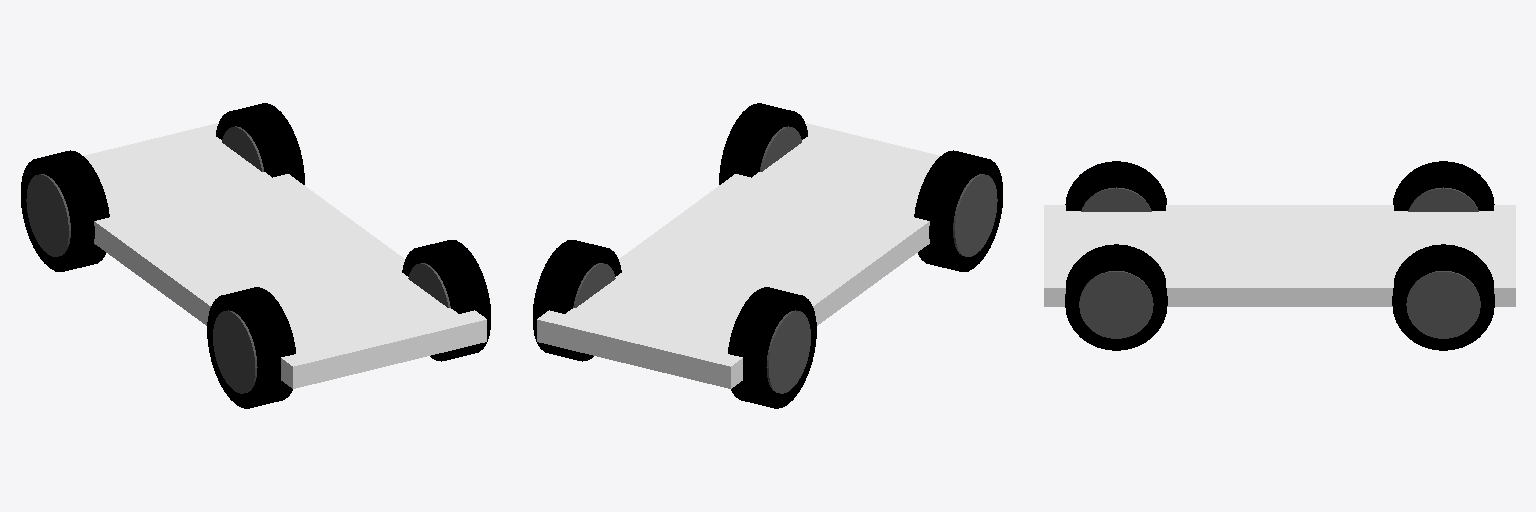
The robot description file, URDF, robot "toyotaComs":
<?xml version="1.0"?>
<robot name="toyotaComs">
  <link name="base_link">
    <visual>
      <geometry>
        <box size="0.9200 2.2025 0.1015"/>
      </geometry>
      <origin rpy="0 0 0 " xyz="0 0 0.225"/>
      <material name="white">
         <color rgba="1 1 1 1"/>
      </material>
    </visual>
    <collision>
      <geometry>
         <box size="0.9200 2.2025 0.1015"/>
      </geometry>
      <origin rpy="0 0 0 " xyz="0 0 0.225"/>
    </collision>
    <inertial>
      <mass value="10"/>
      <inertia ixx="0.012" ixy="0.0" ixz="0.0" iyy="0.012" iyz="0.0" izz="0.008"/>
    </inertial>
  </link>


<link name="left_back_wheel">
    <visual>
      <geometry>
        <cylinder length="0.15" radius="0.24" />
      </geometry>
      <material name="black">
       <color rgba="0 0 0 1"/>
      </material>
    </visual>
     <collision>
      <geometry>
        <cylinder length="0.15" radius="0.24" />
      </geometry>
    </collision>
    <inertial>
      <mass value="1"/>
      <inertia ixx="0.00498" ixy="0.0" ixz="0.0" iyy="0.00498" iyz="0.0" izz="0.00845"/>
     </inertial>
  </link>

 <joint name="left_back_wheel_joint" type="fixed">
    <axis xyz="0 0 1"/>
    <parent link="base_link"/>
    <child link="left_back_wheel"/>
    <origin rpy="1.57075 0 1.57075 " xyz="0.46 0.765 0.225"/>
    <limit effort="100" velocity="100"/>
    <joint_properties damping="0.0" friction="0.0"/>
  </joint>

<link name="inner_left_back_wheel">
    <visual>
      <geometry>
        <cylinder length="0.17" radius="0.1741" />
      </geometry>
      <material name="grey">
       <color rgba="0.4 0.4 0.4 1"/>
      </material>
    </visual>
     <collision>
      <geometry>
        <cylinder length="0.17" radius="0.1741" />
      </geometry>
    </collision>
    <inertial>
      <mass value="1"/>
      <inertia ixx="0.00498" ixy="0.0" ixz="0.0" iyy="0.00498" iyz="0.0" izz="0.00845"/>
     </inertial>
  </link>

 <joint name="inner_left_back_wheel_joint" type="fixed">
    <axis xyz="0 0 1"/>
    <parent link="left_back_wheel"/>
    <child link="inner_left_back_wheel"/>
    <origin rpy="0 0 0 " xyz="0 0 0"/>
    <limit effort="100" velocity="100"/>
    <joint_properties damping="0.0" friction="0.0"/>
  </joint>


<link name="right_back_wheel">
    <visual>
      <geometry>
        <cylinder length="0.15" radius="0.24" />
      </geometry>
      <material name="black">
       <color rgba="0 0 0 1"/>
      </material>
    </visual>
     <collision>
      <geometry>
        <cylinder length="0.15" radius="0.24" />
      </geometry>
    </collision>
    <inertial>
      <mass value="1"/>
      <inertia ixx="0.00498" ixy="0.0" ixz="0.0" iyy="0.00498" iyz="0.0" izz="0.00845"/>
     </inertial>
  </link>

 <joint name="right_back_wheel_joint" type="fixed">
    <axis xyz="0 0 1"/>
    <parent link="base_link"/>
    <child link="right_back_wheel"/>
    <origin rpy="1.57075 0 1.57075 " xyz="-0.46 0.765 0.225"/>
    <limit effort="100" velocity="100"/>
    <joint_properties damping="0.0" friction="0.0"/>
  </joint>

<link name="inner_right_back_wheel">
    <visual>
      <geometry>
        <cylinder length="0.17" radius="0.1741" />
      </geometry>
      <material name="grey">
       <color rgba="0.4 0.4 0.4 1"/>
      </material>
    </visual>
     <collision>
      <geometry>
        <cylinder length="0.17" radius="0.1741" />
      </geometry>
    </collision>
    <inertial>
      <mass value="1"/>
      <inertia ixx="0.00498" ixy="0.0" ixz="0.0" iyy="0.00498" iyz="0.0" izz="0.00845"/>
     </inertial>
  </link>

 <joint name="inner_right_back_wheel_joint" type="fixed">
    <axis xyz="0 0 1"/>
    <parent link="right_back_wheel"/>
    <child link="inner_right_back_wheel"/>
    <origin rpy="0 0 0 " xyz="0 0 0"/>
    <limit effort="100" velocity="100"/>
    <joint_properties damping="0.0" friction="0.0"/>
  </joint>


<link name="left_front_wheel">
    <visual>
      <geometry>
        <cylinder length="0.15" radius="0.24" />
      </geometry>
      <material name="black">
       <color rgba="0 0 0 1"/>
      </material>
    </visual>
     <collision>
      <geometry>
        <cylinder length="0.15" radius="0.24" />
      </geometry>
    </collision>
    <inertial>
      <mass value="1"/>
      <inertia ixx="0.00498" ixy="0.0" ixz="0.0" iyy="0.00498" iyz="0.0" izz="0.00845"/>
     </inertial>
  </link>

 <joint name="nakedCar_steeringLeft" type="revolute"> <!--left_front_wheel_joint-->
    <axis xyz="0 1 0"/>
    <parent link="base_link"/>
    <child link="left_front_wheel"/>
    <origin rpy="1.57075 0 1.57075 " xyz="0.46 -0.765 0.225"/>
    <limit effort="1000.0" lower="-0.785" upper="0.785" velocity="0.5"/>
    <joint_properties damping="0.0" friction="0.0"/>
  </joint>

<link name="inner_left_front_wheel">
    <visual>
      <geometry>
        <cylinder length="0.17" radius="0.1741" />
      </geometry>
      <material name="grey">
       <color rgba="0.4 0.4 0.4 1"/>
      </material>
    </visual>
     <collision>
      <geometry>
        <cylinder length="0.17" radius="0.1741" />
      </geometry>
    </collision>
    <inertial>
      <mass value="1"/>
      <inertia ixx="0.00498" ixy="0.0" ixz="0.0" iyy="0.00498" iyz="0.0" izz="0.00845"/>
     </inertial>
  </link>

 <joint name="inner_left_front_wheel_joint" type="fixed">
    <axis xyz="0 0 1"/>
    <parent link="left_front_wheel"/>
    <child link="inner_left_front_wheel"/>
    <origin rpy="0 0 0 " xyz="0.0 0.0 0.0"/>
    <limit effort="100" velocity="100"/>
    <joint_properties damping="0.0" friction="0.0"/>
  </joint>

<link name="right_front_wheel">
    <visual>
      <geometry>
        <cylinder length="0.15" radius="0.24" />
      </geometry>
      <material name="black">
       <color rgba="0 0 0 1"/>
      </material>
    </visual>
     <collision>
      <geometry>
        <cylinder length="0.15" radius="0.24" />
      </geometry>
    </collision>
    <inertial>
      <mass value="1"/>
      <inertia ixx="0.00498" ixy="0.0" ixz="0.0" iyy="0.00498" iyz="0.0" izz="0.00845"/>
     </inertial>
  </link>

 <joint name="nakedCar_steeringRight" type="revolute"> <!-- right_front_wheel_joint -->
    <axis xyz="0 1 0"/>
    <parent link="base_link"/>
    <child link="right_front_wheel"/>
    <origin rpy="1.57075 0 1.57075 " xyz="-0.46 -0.765 0.225"/>
    <limit effort="1000.0" lower="-0.785" upper="0.785" velocity="0.5"/>
    <joint_properties damping="0.0" friction="0.0"/>
  </joint>

<link name="inner_right_front_wheel">
    <visual>
      <geometry>
        <cylinder length="0.17" radius="0.1741" />
      </geometry>
      <material name="grey">
       <color rgba="0.4 0.4 0.4 1"/>
      </material>
    </visual>
     <collision>
      <geometry>
        <cylinder length="0.17" radius="0.1741" />
      </geometry>
    </collision>
    <inertial>
      <mass value="1"/>
      <inertia ixx="0.00498" ixy="0.0" ixz="0.0" iyy="0.00498" iyz="0.0" izz="0.00845"/>
     </inertial>
  </link>

 <joint name="inner_right_front_wheel_joint" type="fixed">
    <axis xyz="0 0 1"/>
    <parent link="right_front_wheel"/>
    <child link="inner_right_front_wheel"/>
    <origin rpy="0 0 0 " xyz="0 0 0"/>
    <limit effort="100" velocity="100"/>
    <joint_properties damping="0.0" friction="0.0"/>
  </joint>





<link name="car_body">
    <visual>
      <origin rpy="0 0 0" xyz="0 0 0"/>
      <geometry>
        <mesh filename="package://vehicle_model/mesh/toyotaComsFinal1.dae"/>
      </geometry>
    </visual>
    <collision>
      <geometry>
        <mesh filename="package://vehicle_model/mesh/toyotaComsFinal1.dae"/>
      </geometry>
     <origin rpy="0 0 0" xyz="0 0 0"/>
    </collision>
    <inertial>
      <mass value="0.05"/>
     <inertia ixx="0.012" ixy="0.0" ixz="0.0" iyy="0.012" iyz="0.0" izz="0.008"/>
    </inertial>
  </link>

<joint name="car_body_joint" type="fixed">
    <axis xyz="0 0 0"/>
    
    <origin rpy="0 0 0" xyz="0 0 0"/>
    <parent link="base_link"/>
    <child link="car_body"/>
  </joint>



</robot>

--- Facts derived from the render (not from the file) ---
3 views of the same robot in one strip: view 1: azimuth 30°, elevation 25°; view 2: azimuth 150°, elevation 25°; view 3: azimuth 270°, elevation 25° (orthographic).
Model toyotaComs with 10 links and 9 joints (2 revolute, 7 fixed), rooted at base_link, posed every joint at zero.
Links seen in each view (by area): view 1: base_link, right_back_wheel, right_front_wheel, left_front_wheel, left_back_wheel, inner_right_front_wheel, inner_right_back_wheel, inner_left_back_wheel, inner_left_front_wheel; view 2: base_link, right_front_wheel, right_back_wheel, left_back_wheel, left_front_wheel, inner_right_back_wheel, inner_right_front_wheel, inner_left_back_wheel, inner_left_front_wheel; view 3: base_link, left_back_wheel, left_front_wheel, inner_left_back_wheel, inner_left_front_wheel, right_back_wheel, right_front_wheel, inner_right_back_wheel, inner_right_front_wheel.
Boxes of the visible links, x1,y1,x2,y2 form: base_link: [84, 123, 486, 388]; right_back_wheel: [21, 150, 109, 271]; right_front_wheel: [207, 287, 295, 408]; left_front_wheel: [402, 240, 490, 361]; left_back_wheel: [216, 103, 304, 184]; inner_right_front_wheel: [213, 310, 257, 393]; inner_right_back_wheel: [26, 174, 70, 256]; inner_left_back_wheel: [222, 126, 263, 171]; inner_left_front_wheel: [408, 263, 450, 307]; base_link: [537, 123, 939, 388]; right_front_wheel: [914, 150, 1002, 271]; right_back_wheel: [728, 287, 816, 408]; left_back_wheel: [533, 240, 621, 361]; left_front_wheel: [719, 103, 807, 184]; inner_right_back_wheel: [766, 310, 810, 393]; inner_right_front_wheel: [953, 174, 997, 256]; inner_left_back_wheel: [573, 263, 615, 307]; inner_left_front_wheel: [760, 126, 801, 171]; base_link: [1044, 205, 1515, 306]; left_back_wheel: [1392, 244, 1494, 350]; left_front_wheel: [1065, 244, 1167, 350]; inner_left_back_wheel: [1406, 271, 1480, 338]; inner_left_front_wheel: [1079, 271, 1153, 338]; right_back_wheel: [1393, 161, 1494, 210]; right_front_wheel: [1065, 161, 1166, 210]; inner_right_back_wheel: [1408, 187, 1478, 211]; inner_right_front_wheel: [1081, 187, 1151, 211].
Bounding box of the posed robot: 1.09 × 2.2 × 0.48 m (x, y, z).
Meshes: 1 distinct files referenced, 0 mesh visuals loaded (none loaded); not drawn: 1 (reference not matched to a file when rendering).